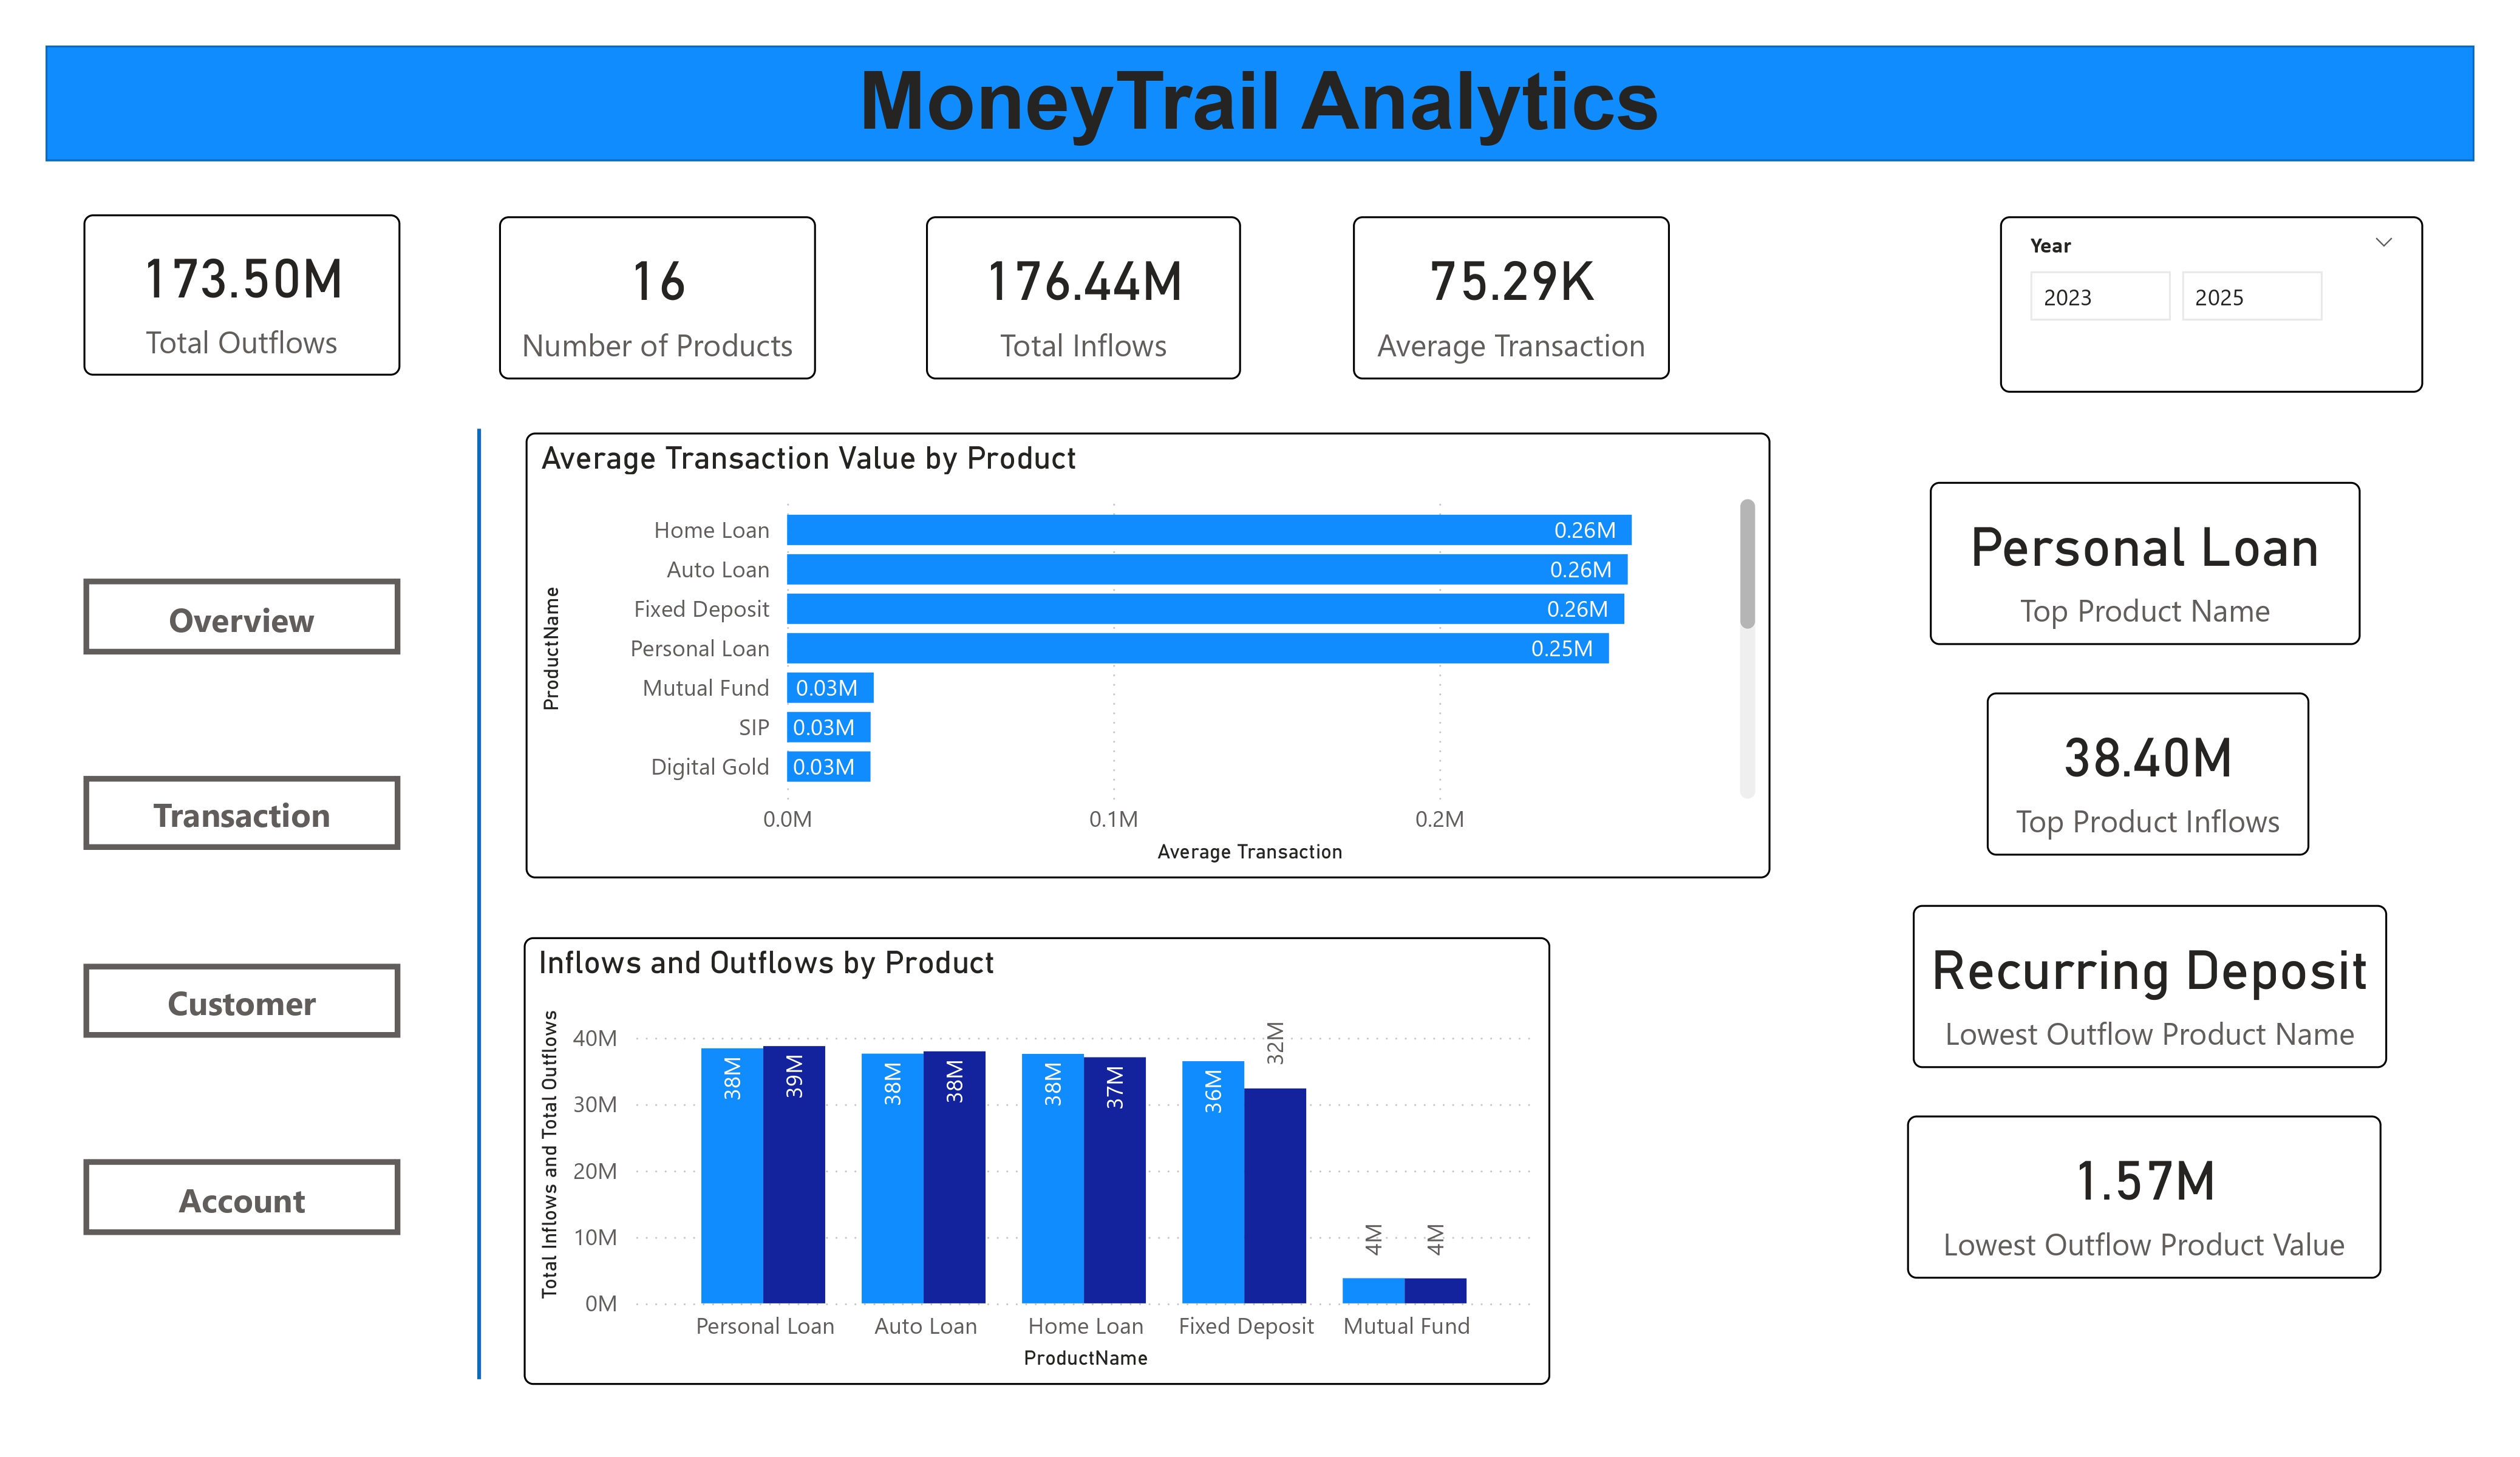

This screenshot's page, from the dashboard's own definition file:
{"tool":"powerbi","page":{"name":"Product Analysis","canvas":[1280,720],"ordinal":3},"visuals":[{"type":"card","fields":{"Values":["DimAccount.Number of Products"]},"box":[238.6,90,167.1,85.7],"z":0},{"type":"card","fields":{"Values":["DimAccount.Total Inflows"]},"box":[464.3,90,165.7,85.7],"z":1000},{"type":"card","fields":{"Values":["DimAccount.Total Outflows"]},"box":[20,88.6,167.1,85.7],"z":2000},{"type":"card","fields":{"Values":["DimAccount.Average Transaction"]},"box":[688.6,90,167.1,85.7],"z":3000},{"type":"clusteredBarChart","title":"Average Transaction Value by Product","fields":{"Category":["DimProduct.ProductName"],"Y":["DimAccount.Average Transaction"]},"box":[252.9,204.3,655.7,234.3],"z":4000},{"type":"clusteredColumnChart","title":"Inflows and Outflows by Product","fields":{"Category":["DimProduct.ProductName"],"Y":["DimAccount.Total Inflows","DimAccount.Total Outflows"]},"box":[252.3,469.8,540.7,236],"z":5000},{"type":"card","fields":{"Values":["DimAccount.Top Product Name"]},"box":[992.9,230,227.1,85.7],"z":6000},{"type":"card","fields":{"Values":["DimAccount.Top Product Inflows"]},"box":[1022.9,341.4,170,85.7],"z":7000},{"type":"card","fields":{"Values":["DimAccount.Lowest Outflow Product Name"]},"box":[984.3,452.9,250,85.7],"z":8000},{"type":"card","fields":{"Values":["DimAccount.Lowest Outflow Product Value"]},"box":[981.4,564.3,250,85.7],"z":9000},{"type":"shape","box":[0,0,1280,61],"z":10000},{"type":"actionButton","box":[19.8,384.9,167.4,39.5],"z":11000},{"type":"actionButton","box":[19.8,281.4,167.4,39.5],"z":12000},{"type":"actionButton","box":[19.8,483.7,167.4,39.5],"z":13000},{"type":"actionButton","box":[19.8,587.2,167.4,39.5],"z":14000},{"type":"shape","box":[218.6,202.3,19.8,501.2],"z":15000},{"type":"slicer","fields":{"Values":["DimCalendar.Year"]},"box":[1030,90,222.9,92.9],"z":16000},{"type":"textbox","box":[793,470,150,236],"z":16001},{"type":"textbox","box":[0,0,1280,61.4],"z":16002}]}

Visuals, with their boxes on the page's 1280x720 design canvas (x1, y1, x2, y2). These are canvas units, not pixel positions in the 2520x1457 screenshot, which may show the page scaled, cropped or inside an application window:
card - DimAccount.Number of Products: {"left": 239, "top": 90, "right": 406, "bottom": 176}
card - DimAccount.Total Inflows: {"left": 464, "top": 90, "right": 630, "bottom": 176}
card - DimAccount.Total Outflows: {"left": 20, "top": 89, "right": 187, "bottom": 174}
card - DimAccount.Average Transaction: {"left": 689, "top": 90, "right": 856, "bottom": 176}
"Average Transaction Value by Product" clusteredBarChart: {"left": 253, "top": 204, "right": 909, "bottom": 439}
"Inflows and Outflows by Product" clusteredColumnChart: {"left": 252, "top": 470, "right": 793, "bottom": 706}
card - DimAccount.Top Product Name: {"left": 993, "top": 230, "right": 1220, "bottom": 316}
card - DimAccount.Top Product Inflows: {"left": 1023, "top": 341, "right": 1193, "bottom": 427}
card - DimAccount.Lowest Outflow Product Name: {"left": 984, "top": 453, "right": 1234, "bottom": 539}
card - DimAccount.Lowest Outflow Product Value: {"left": 981, "top": 564, "right": 1231, "bottom": 650}
shape: {"left": 0, "top": 0, "right": 1280, "bottom": 61}
actionButton: {"left": 20, "top": 385, "right": 187, "bottom": 424}
actionButton: {"left": 20, "top": 281, "right": 187, "bottom": 321}
actionButton: {"left": 20, "top": 484, "right": 187, "bottom": 523}
actionButton: {"left": 20, "top": 587, "right": 187, "bottom": 627}
shape: {"left": 219, "top": 202, "right": 238, "bottom": 704}
slicer - DimCalendar.Year: {"left": 1030, "top": 90, "right": 1253, "bottom": 183}
textbox: {"left": 793, "top": 470, "right": 943, "bottom": 706}
textbox: {"left": 0, "top": 0, "right": 1280, "bottom": 61}
